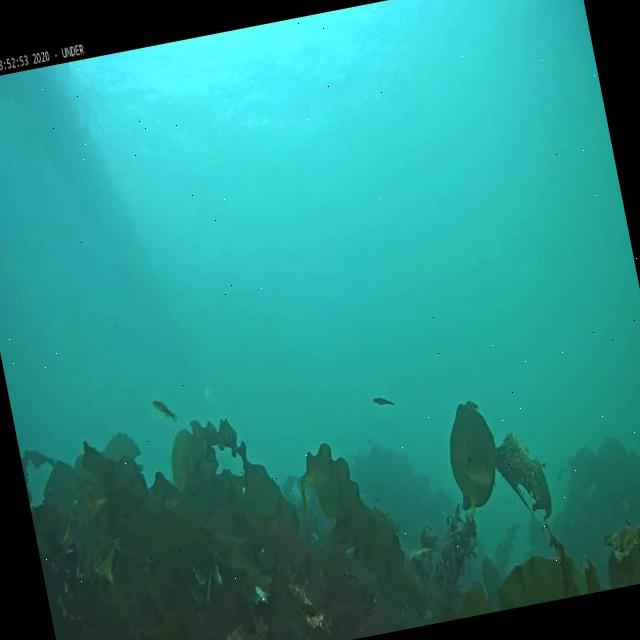fish: (150, 396, 178, 426), (373, 395, 394, 408)
